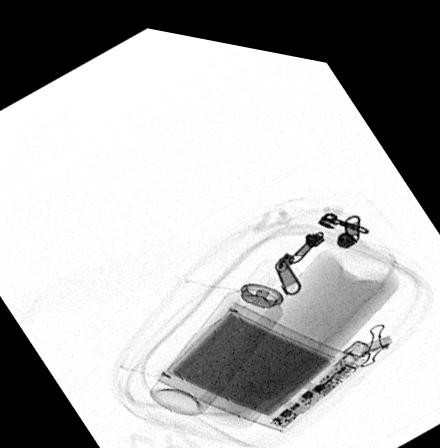Lighter: (279, 324, 376, 402)
Powerbank: (153, 293, 369, 422)
Sprayer: (148, 248, 304, 408)
